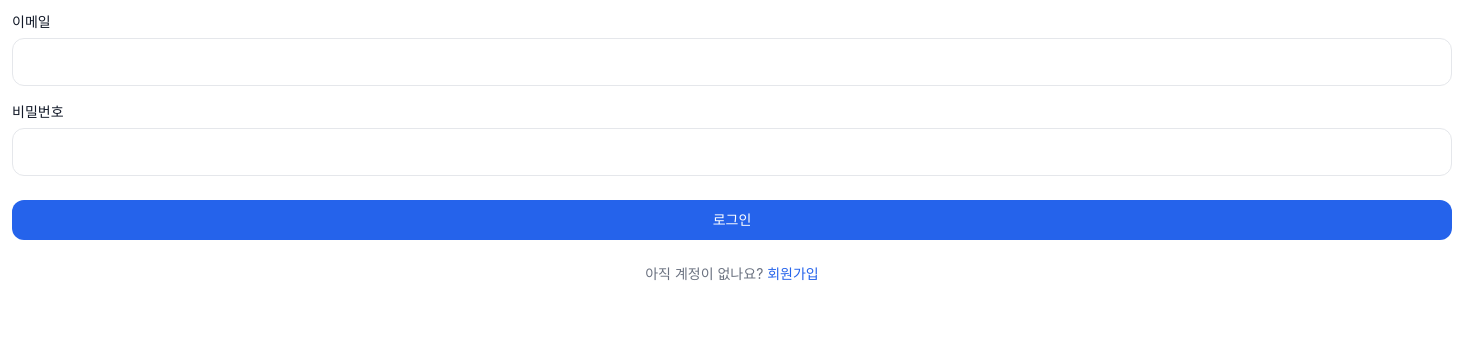
it: LoginForm › 액션이 폼 전체 오류를 돌려주면 login_failed 이벤트를 서버 거절로 보낸다
Step 1. Type "user@example.com" into the field labelled "이메일" → (732, 62), box [12,38,1452,86]
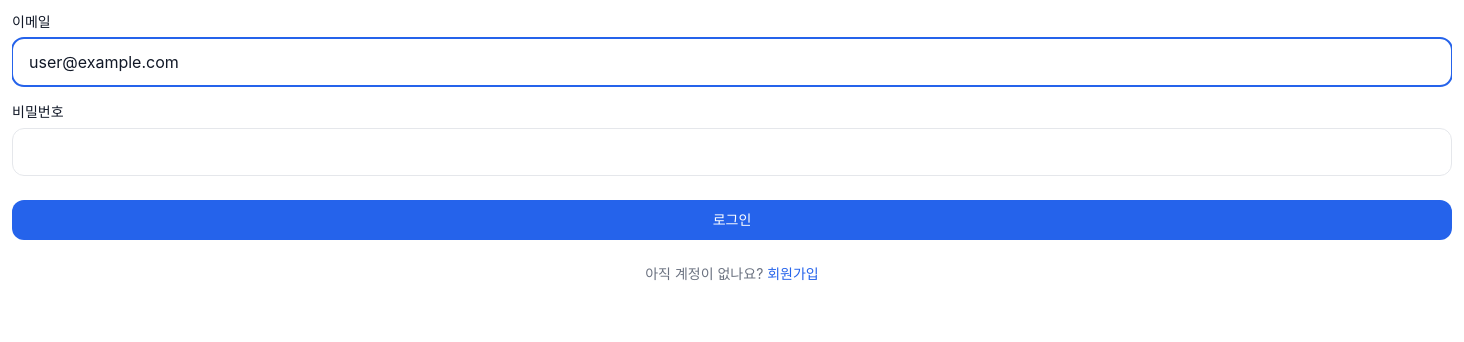
Step 2. Type "password123" into the password field labelled "비밀번호" → (732, 152), box [12,128,1452,176]
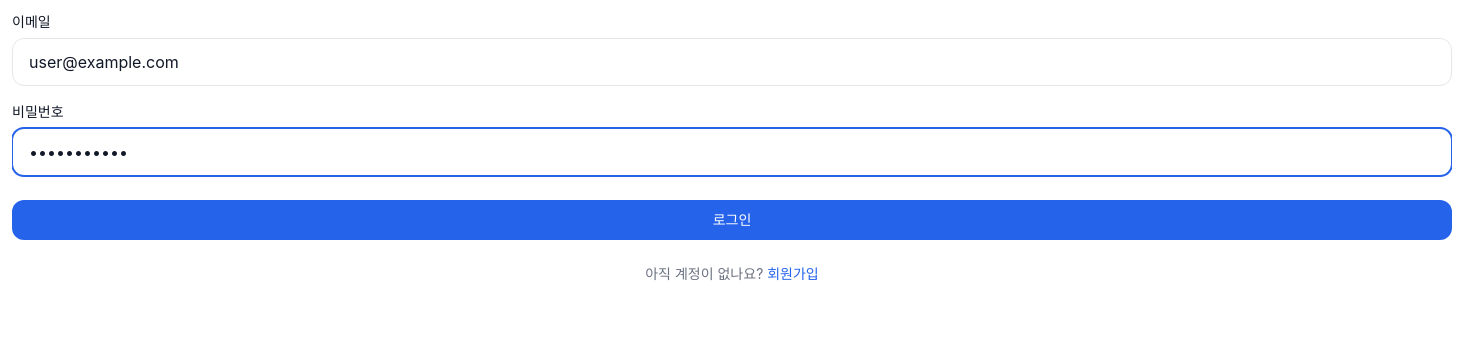
Step 3. Click the button "로그인" → click(732, 220), box [12,200,1452,240]
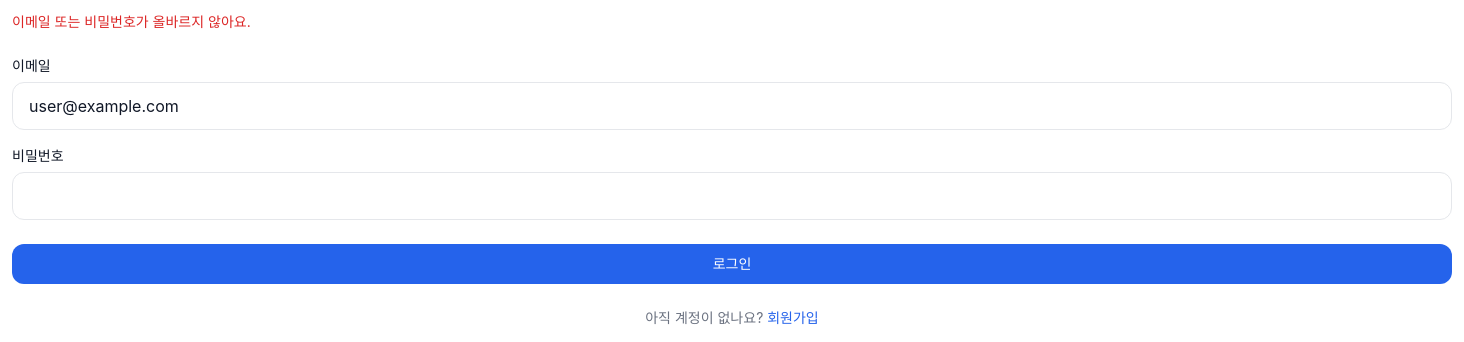
Now the message "이메일 또는 비밀번호가 올바르지 않아요." is shown, box [12,13,251,30]
